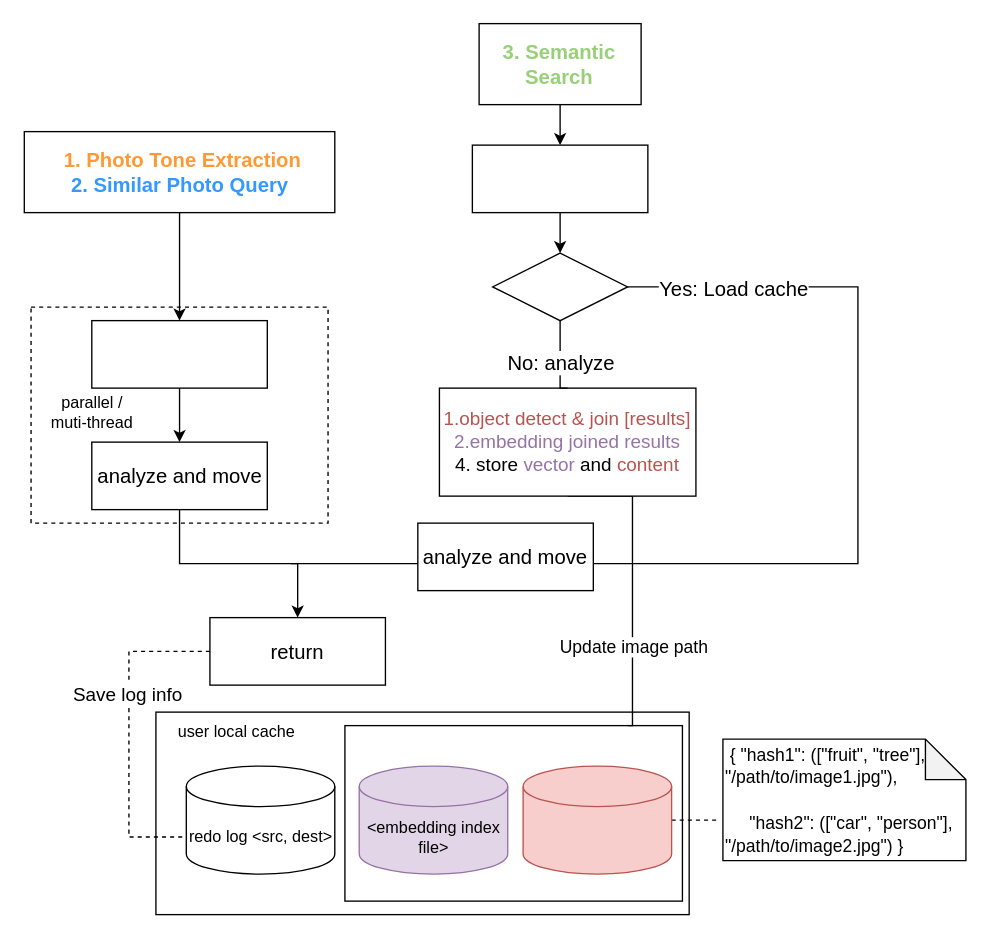
The diagram is 990 pixels wide and 938 high, and some of its shapes have lost their labels. Each missing label, with the centre of its shape:
<hash, ([classes], path)>: the point at 597,819
get image hash: the point at 559,178
In Cache?: the point at 559,286
Resize images: the point at 178,353
